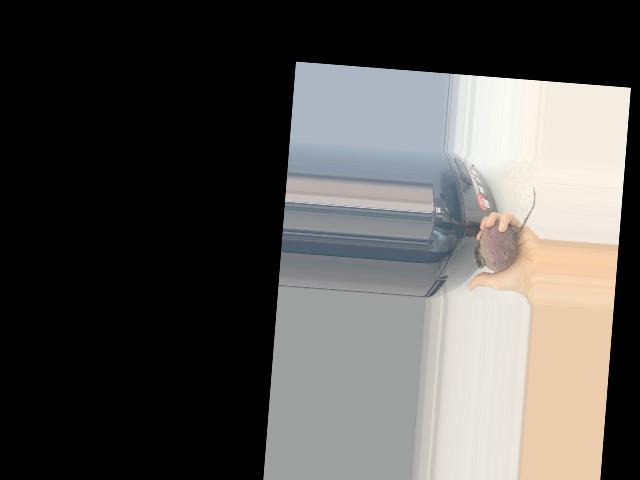beet: (473, 182, 536, 273)
